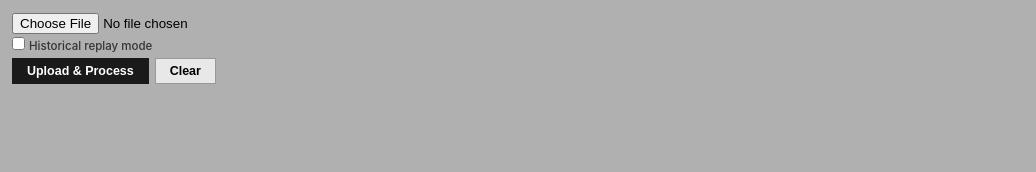
it: TransactionUpload › shows an inline error when upload is clicked with no file
Click the button "Upload & Process": (80, 71) [12,58,149,84]
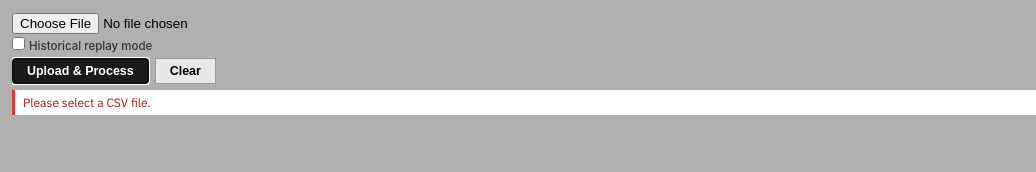
Expected: the text "Please select a CSV file." is shown, [12,90,1035,115]
